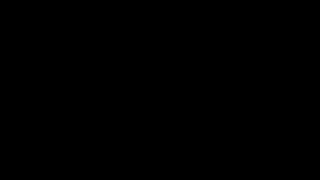turn_left: (193, 53, 210, 70)
